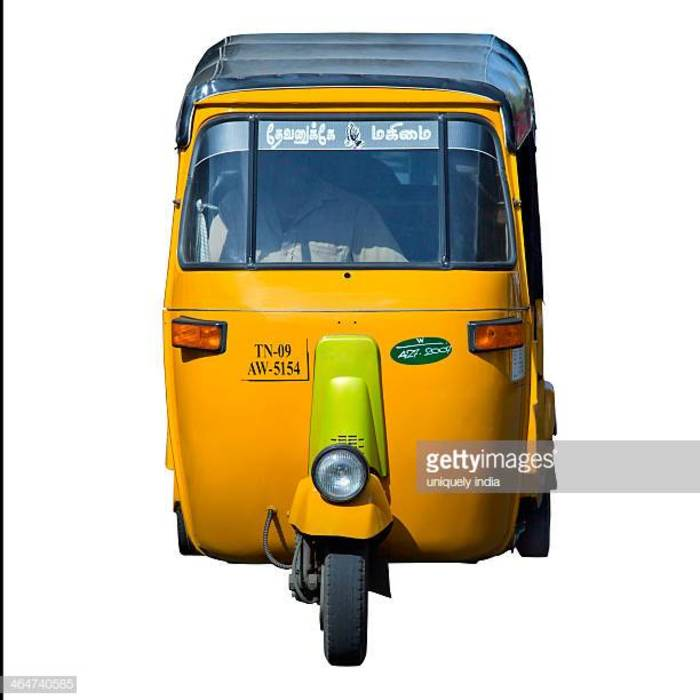n: (234, 338, 312, 380)
